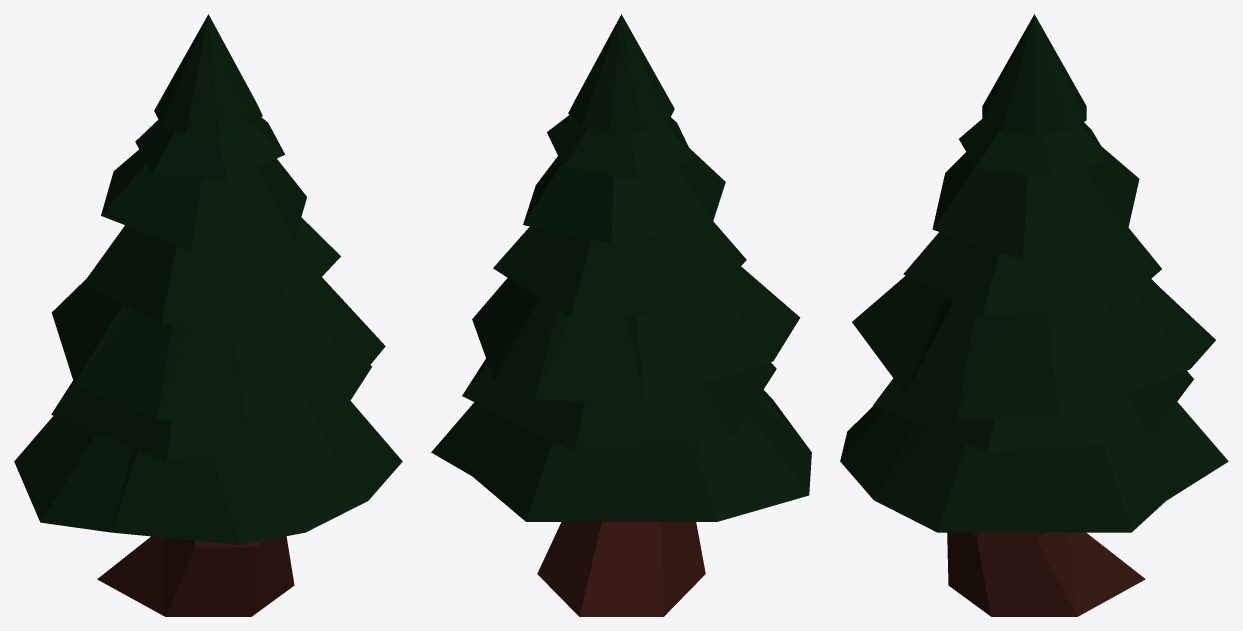
File: pine.obj
3 views of the same model, side by side, from view 1: azimuth 30°, elevation 25°; view 2: azimuth 150°, elevation 25°; view 3: azimuth 270°, elevation 25° (orthographic). The views are drawn at different scales.
Parts seen in each view (by area): view 1: Cylinder.001, Cylinder.003, Cylinder.004, Cylinder.005, Cylinder, Cylinder.002, Cone, Cylinder.006; view 2: Cylinder.001, Cylinder.003, Cylinder.004, Cylinder.002, Cylinder, Cylinder.005, Cone, Cylinder.006; view 3: Cylinder.003, Cylinder.001, Cylinder.005, Cylinder.004, Cylinder, Cylinder.002, Cone, Cylinder.006.
Part boxes in pixels (x1=…): Cylinder.001: x1=14, y1=401, x2=402, y2=544; Cylinder.003: x1=51, y1=277, x2=385, y2=426; Cylinder.004: x1=82, y1=217, x2=340, y2=323; Cylinder.005: x1=101, y1=149, x2=306, y2=250; Cylinder: x1=97, y1=536, x2=294, y2=616; Cylinder.002: x1=51, y1=365, x2=371, y2=461; Cone: x1=154, y1=14, x2=262, y2=135; Cylinder.006: x1=135, y1=117, x2=284, y2=180; Cylinder.001: x1=431, y1=389, x2=811, y2=521; Cylinder.003: x1=472, y1=266, x2=800, y2=401; Cylinder.004: x1=493, y1=221, x2=746, y2=318; Cylinder.002: x1=462, y1=358, x2=776, y2=451; Cylinder: x1=537, y1=522, x2=705, y2=616; Cylinder.005: x1=523, y1=148, x2=725, y2=243; Cone: x1=568, y1=14, x2=674, y2=133; Cylinder.006: x1=547, y1=115, x2=693, y2=179; Cylinder.003: x1=852, y1=275, x2=1215, y2=419; Cylinder.001: x1=840, y1=402, x2=1228, y2=532; Cylinder.005: x1=932, y1=147, x2=1139, y2=260; Cylinder.004: x1=903, y1=228, x2=1161, y2=315; Cylinder: x1=947, y1=532, x2=1145, y2=616; Cylinder.002: x1=873, y1=371, x2=1193, y2=452; Cone: x1=982, y1=14, x2=1086, y2=136; Cylinder.006: x1=959, y1=119, x2=1108, y2=178.
Bounding box in the file's own units: 6.87 × 11.51 × 7.1.
